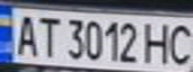0: (81, 17, 103, 62)
1: (103, 18, 121, 63)
2: (118, 18, 142, 64)
3: (60, 15, 84, 61)
A: (9, 11, 39, 57)
C: (166, 20, 193, 68)
H: (142, 19, 175, 65)
T: (33, 12, 60, 59)
